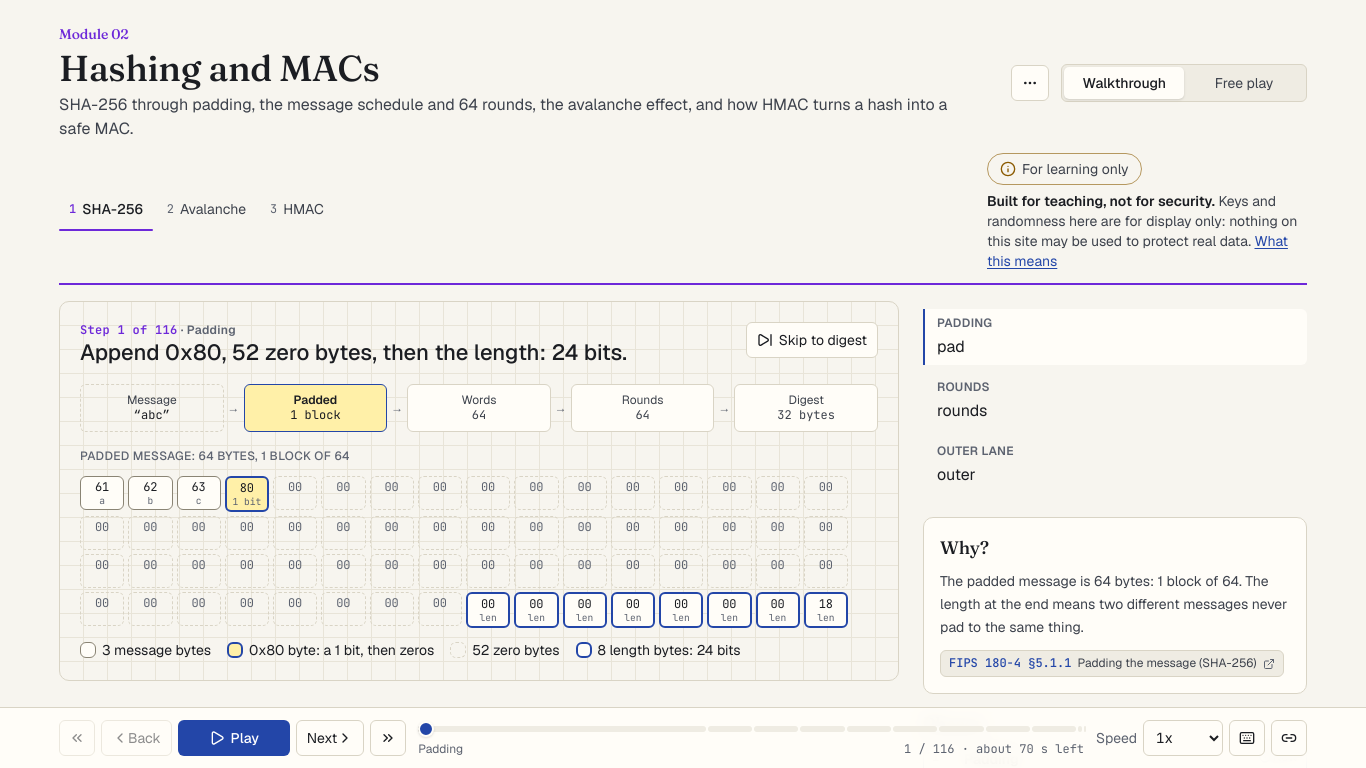
Test case: HashingModule › lists the 64 rounds as one phase in the rail
Expected: the text "Rounds 1–8" is not shown
Click the button "Rounds 64": (643, 408) [571,384,714,432]
(page scrolled)
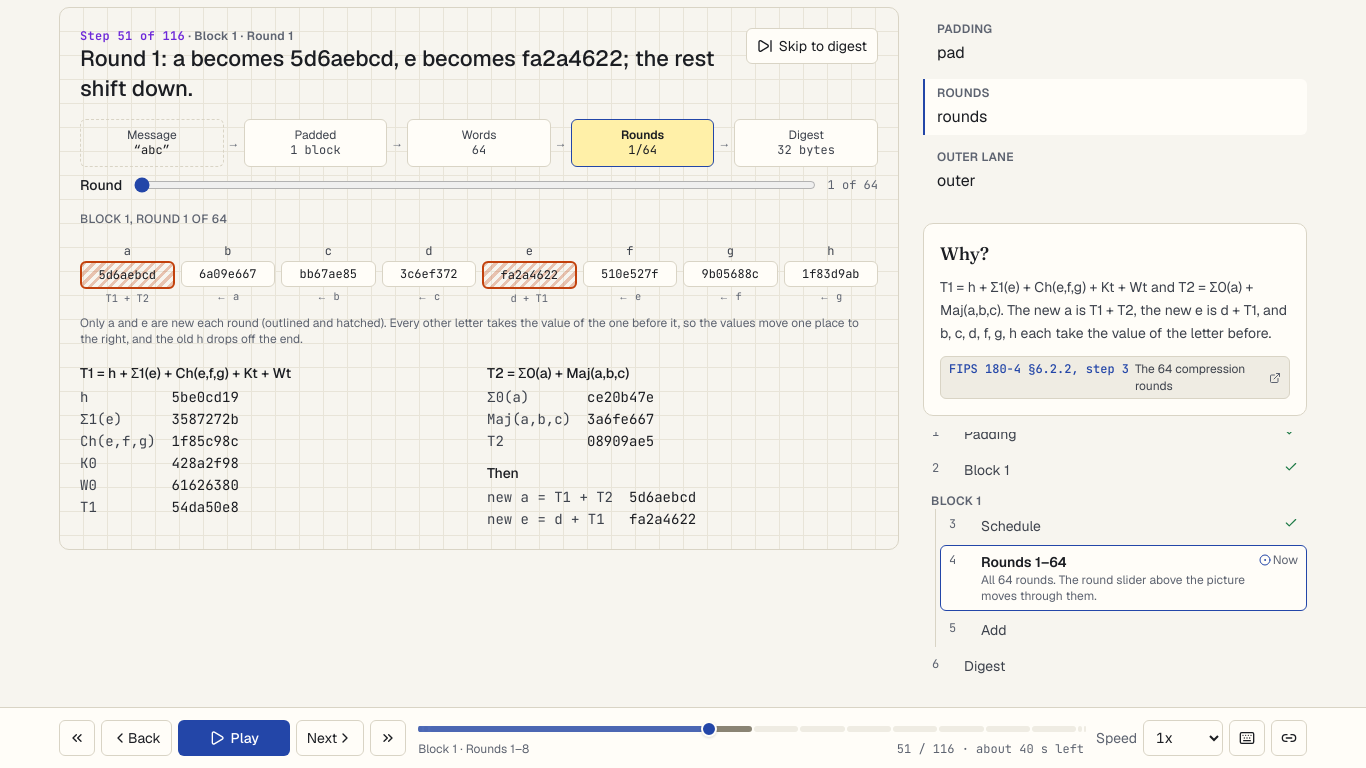
Expected: the button that starts with "Rounds 1–64" is shown, [940,545,1307,611]
